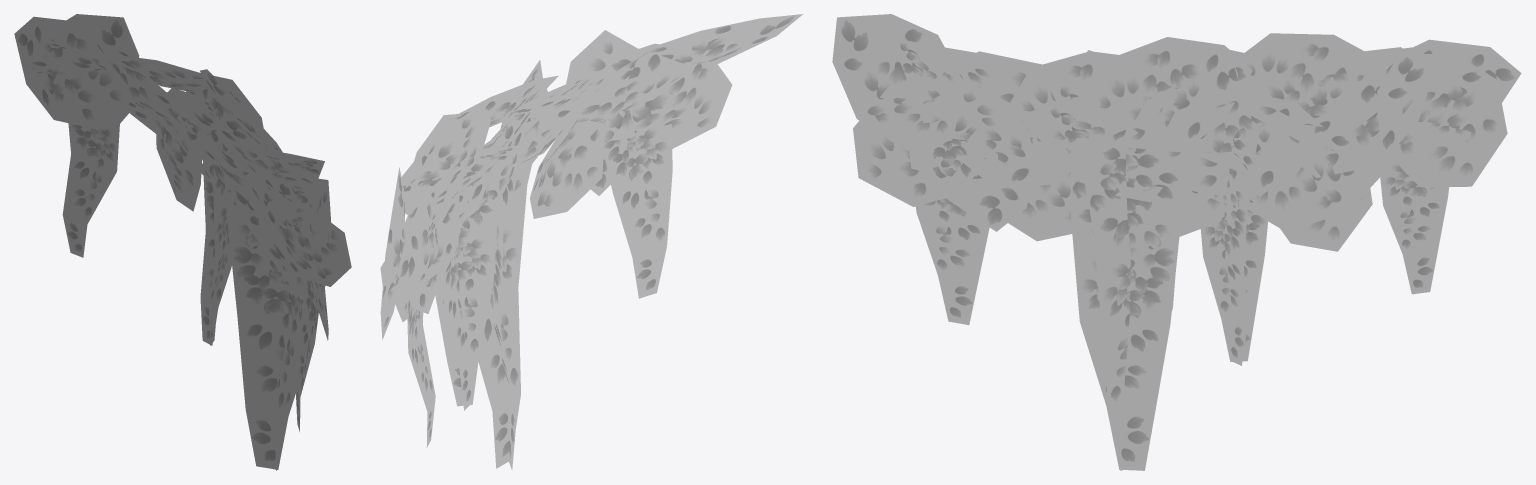
Rendered from SM_Vines_Bent_01.fbx.
3 renders of one model, left to right at view 1: azimuth 30°, elevation 25°; view 2: azimuth 150°, elevation 25°; view 3: azimuth 270°, elevation 25°, orthographic. The views are drawn at different scales.
Parts seen in each view (by area): view 1: Vines_Bent_01_LOD0; view 2: Vines_Bent_01_LOD0; view 3: Vines_Bent_01_LOD0.
Boxes of the visible parts, x1,y1,x2,y2 form: Vines_Bent_01_LOD0: (14,14,351,470); Vines_Bent_01_LOD0: (380,14,802,470); Vines_Bent_01_LOD0: (832,14,1521,470).
Size of what is drawn, in the model's own units: 2.18 by 4.5 by 6.86.
